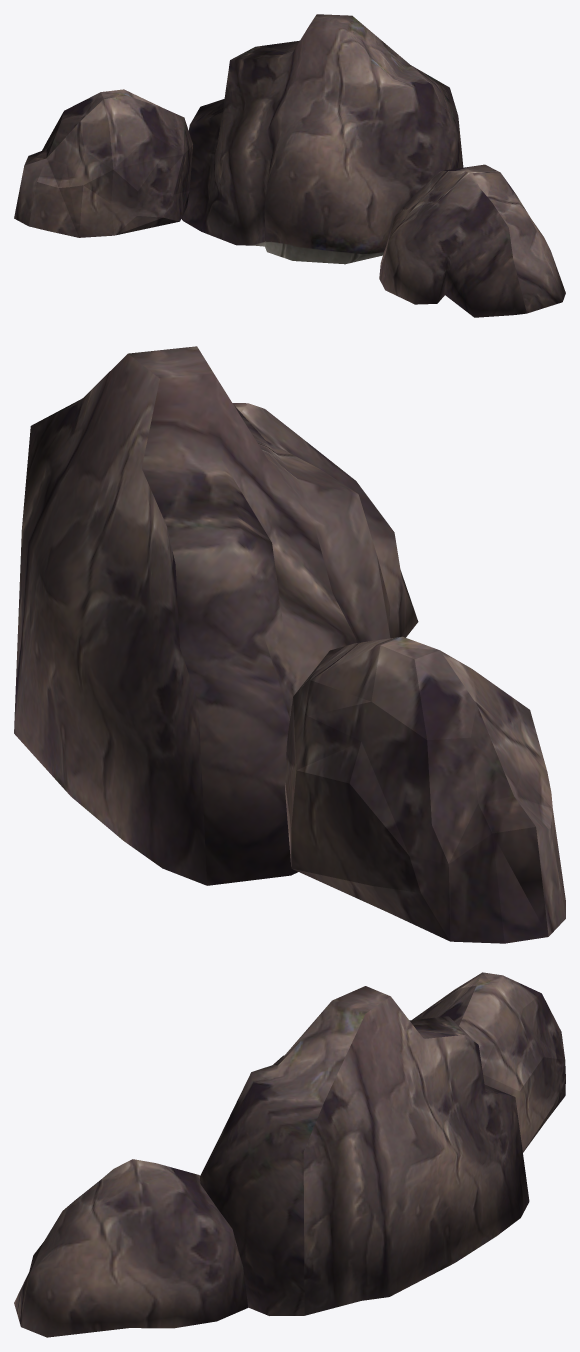
File: Stage_ZhuCheng_ShiTou_01.FBX
3 renders of one model, top to bottom at view 1: azimuth 30°, elevation 25°; view 2: azimuth 150°, elevation 25°; view 3: azimuth 270°, elevation 25°, orthographic. The views are drawn at different scales.
Parts seen in each view (by area): view 1: Stage_ZhuCheng_ShiTou_01; view 2: Stage_ZhuCheng_ShiTou_01; view 3: Stage_ZhuCheng_ShiTou_01.
Part boxes in pixels (x1=…): Stage_ZhuCheng_ShiTou_01: x1=14, y1=14, x2=565, y2=317; Stage_ZhuCheng_ShiTou_01: x1=14, y1=346, x2=565, y2=943; Stage_ZhuCheng_ShiTou_01: x1=14, y1=972, x2=565, y2=1337.
Size of the model in its own units: 842 by 457 by 851.
